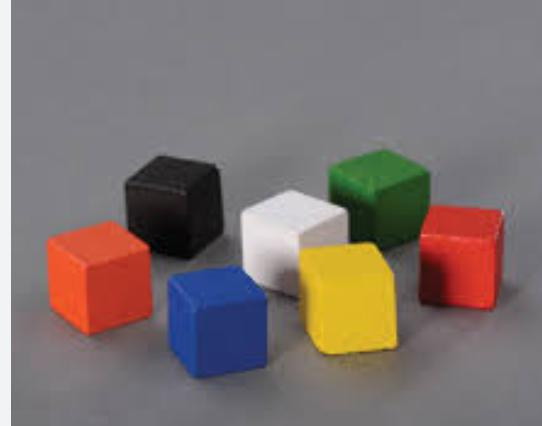bluecube: (166, 265, 268, 379)
green cube: (327, 143, 433, 250)
red cube: (419, 204, 506, 313)
